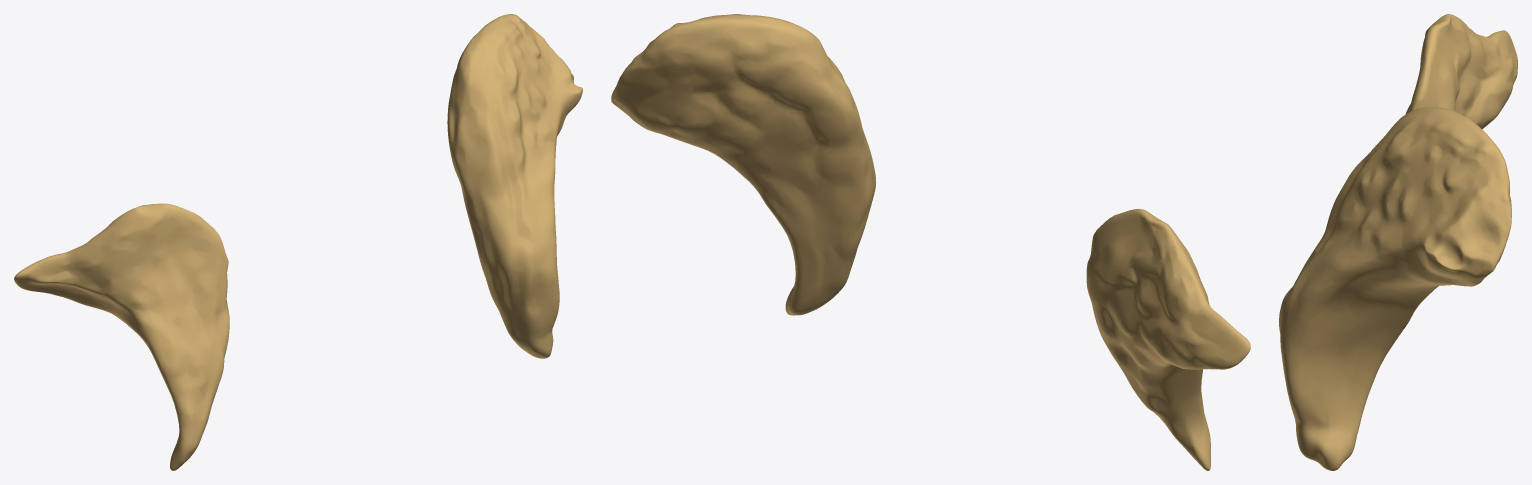
Rendered from explorar-adrenal_glands.glb.
The picture shows the model from 3 angles, left to right: view 1: azimuth 30°, elevation 25°; view 2: azimuth 150°, elevation 25°; view 3: azimuth 270°, elevation 25°; orthographic projection. The views are drawn at different scales.
Parts seen in each view (by area): view 1: adrenal_glands__izquierda, adrenal_glands__derecha; view 2: adrenal_glands__izquierda, adrenal_glands__derecha; view 3: adrenal_glands__izquierda, adrenal_glands__derecha.
Part boxes in pixels (x1=…): adrenal_glands__izquierda: x1=447, y1=14, x2=582, y2=358; adrenal_glands__derecha: x1=14, y1=203, x2=229, y2=470; adrenal_glands__izquierda: x1=611, y1=14, x2=875, y2=315; adrenal_glands__derecha: x1=1086, y1=208, x2=1250, y2=470; adrenal_glands__izquierda: x1=1279, y1=107, x2=1511, y2=470; adrenal_glands__derecha: x1=1405, y1=14, x2=1517, y2=129.
Bounding box in the file's own units: 0.1085 × 0.062 × 0.034.
